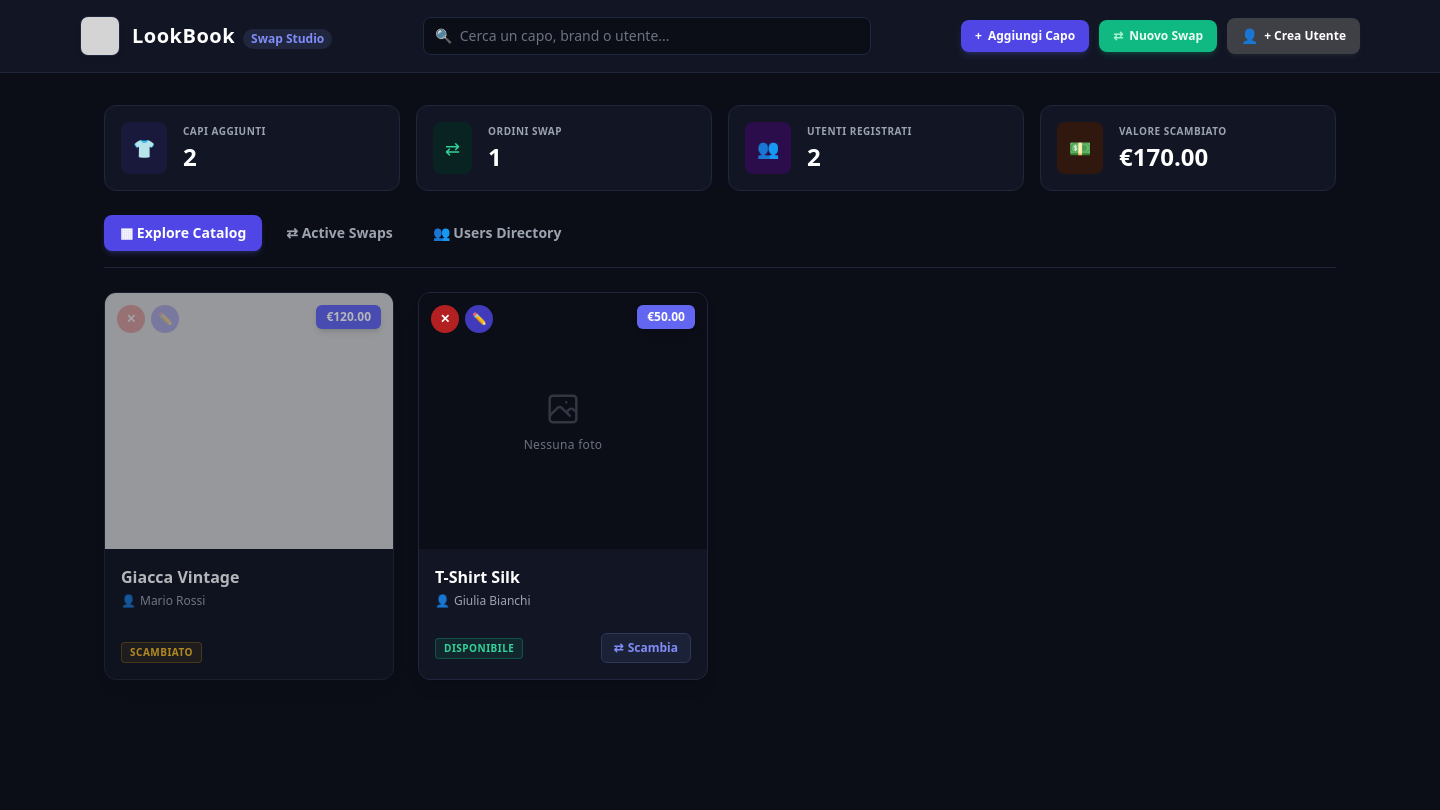
Scenario: Swap Studio - Frontend Integration Tests › Apre DeleteSwapModal ed esegue la cancellazione dell'ordine
Later steps or results of the test are not shown.
Click the button "⇄ Active Swaps".
click(340, 233)  # box [270, 215, 409, 251]
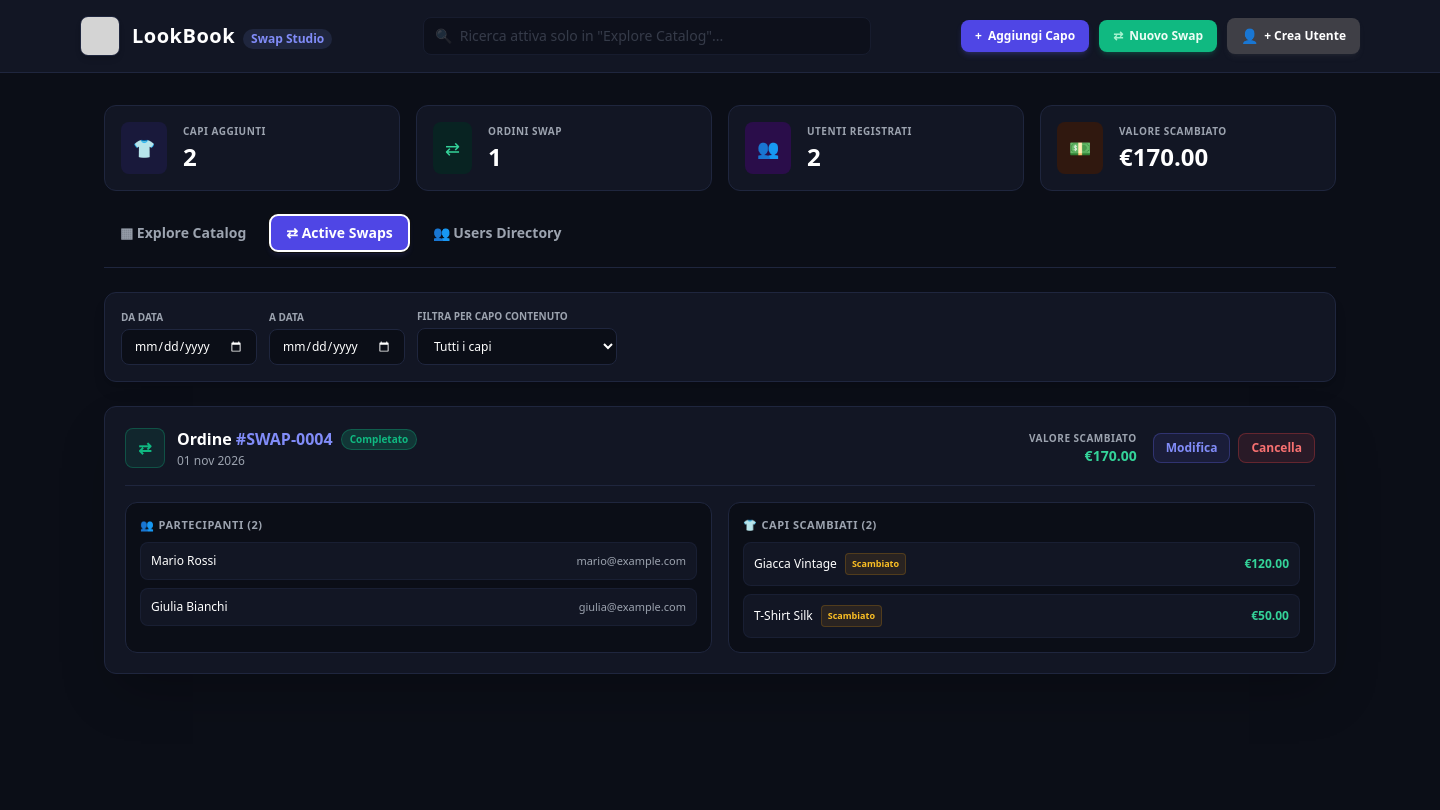
Click the button "Cancella".
click(1277, 448)  # box [1238, 433, 1315, 463]
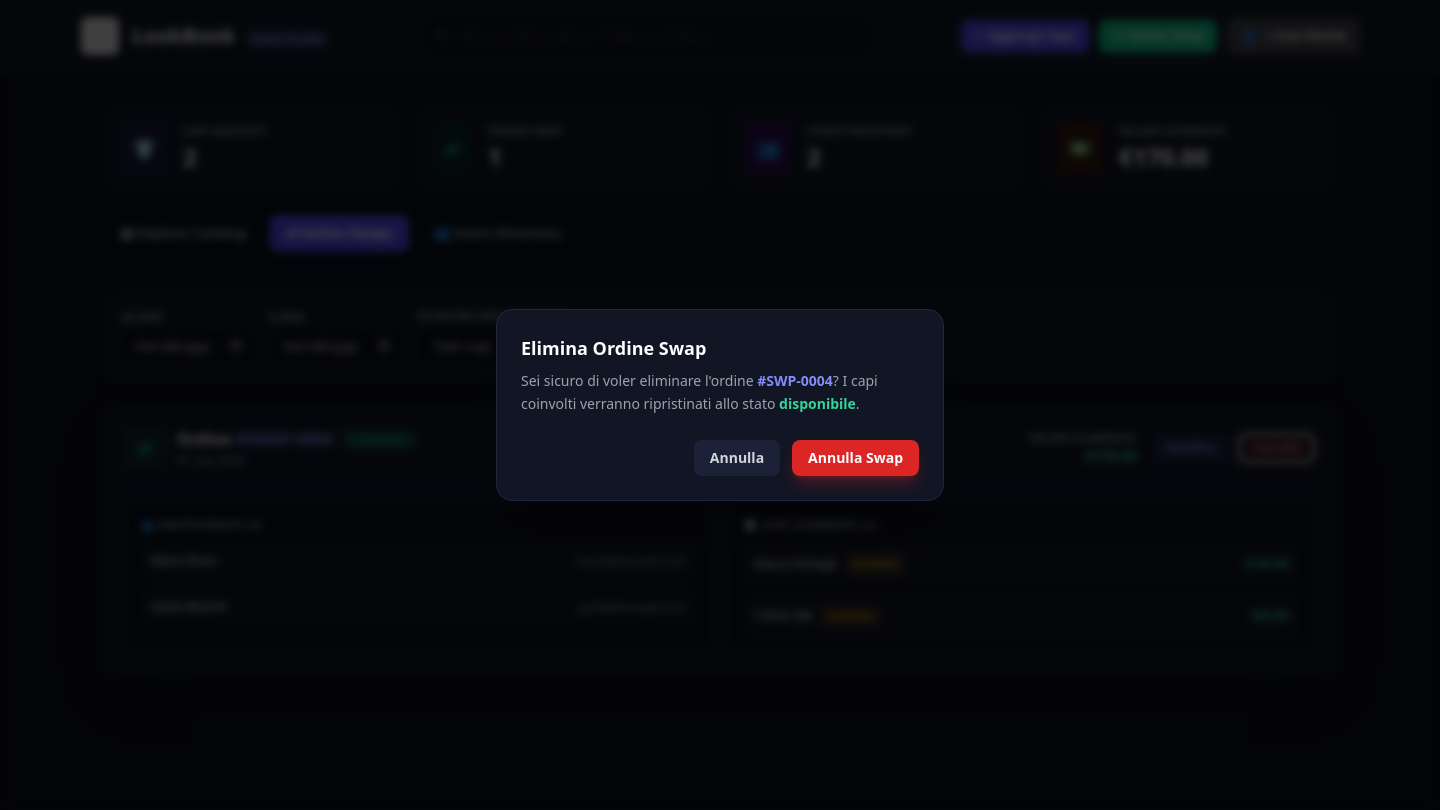
Expected: the heading "Elimina Ordine Swap" is shown, [521, 336, 706, 360]
